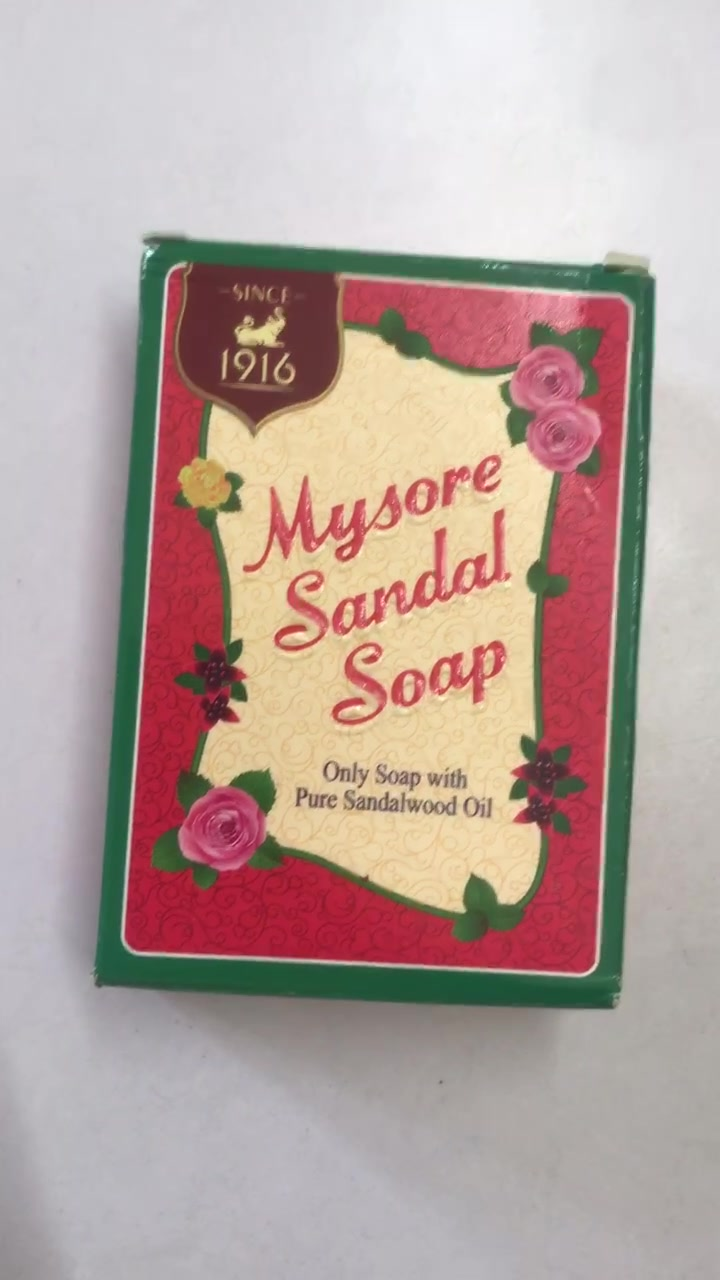mysore sandal soap: (99, 238, 637, 1000)
